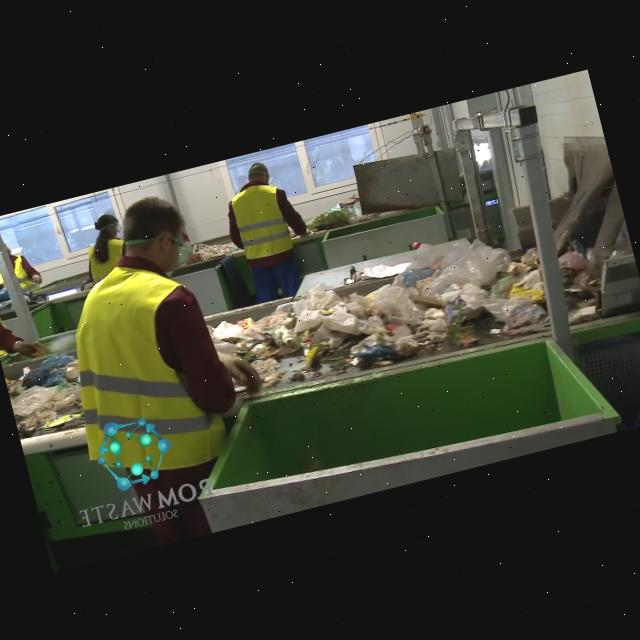trash: (409, 232, 452, 276)
